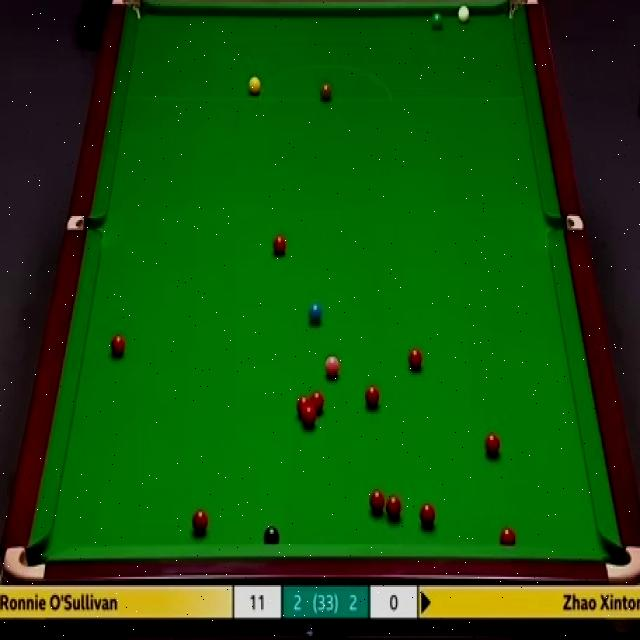black-ball: (263, 525, 282, 546)
blue-ball: (313, 302, 331, 324)
brown-ball: (320, 79, 332, 100)
green-ball: (430, 12, 444, 31)
pink-ball: (324, 355, 341, 381)
red-ball: (418, 503, 436, 531), (191, 508, 208, 535), (368, 490, 386, 515), (362, 382, 379, 408), (485, 432, 502, 457), (408, 346, 424, 372), (109, 331, 125, 356), (296, 395, 311, 421), (273, 232, 286, 259), (498, 526, 516, 544), (302, 408, 318, 428), (311, 391, 324, 415), (386, 491, 399, 512)
white-ball: (458, 5, 472, 24)
yellow-ball: (248, 78, 260, 94)
